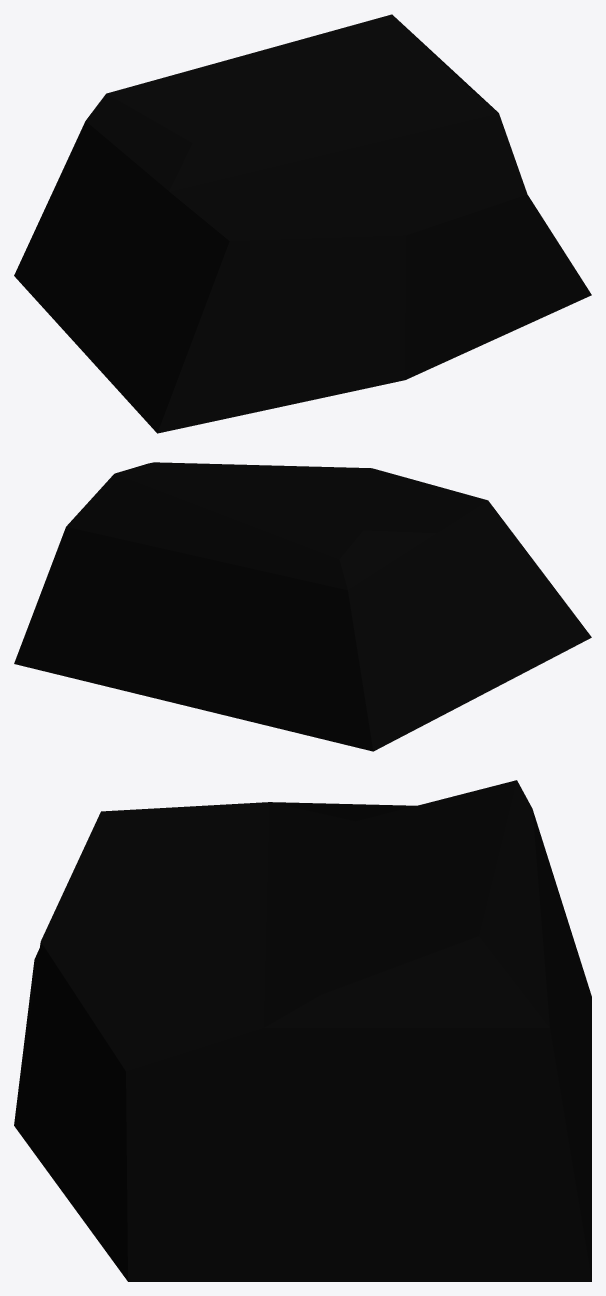
File: Stone1.fbx
The picture shows the model from 3 angles, top to bottom: view 1: azimuth 30°, elevation 25°; view 2: azimuth 150°, elevation 25°; view 3: azimuth 270°, elevation 25°; orthographic projection. The views are drawn at different scales.
Visible parts, largest first — view 1: Cube; view 2: Cube; view 3: Cube.
Boxes of the visible parts, x1,y1,x2,y2 form: Cube: (14, 14, 591, 433); Cube: (14, 462, 591, 751); Cube: (14, 780, 591, 1281).
Size of the model in its own units: 46.03 by 19.57 by 34.88.
